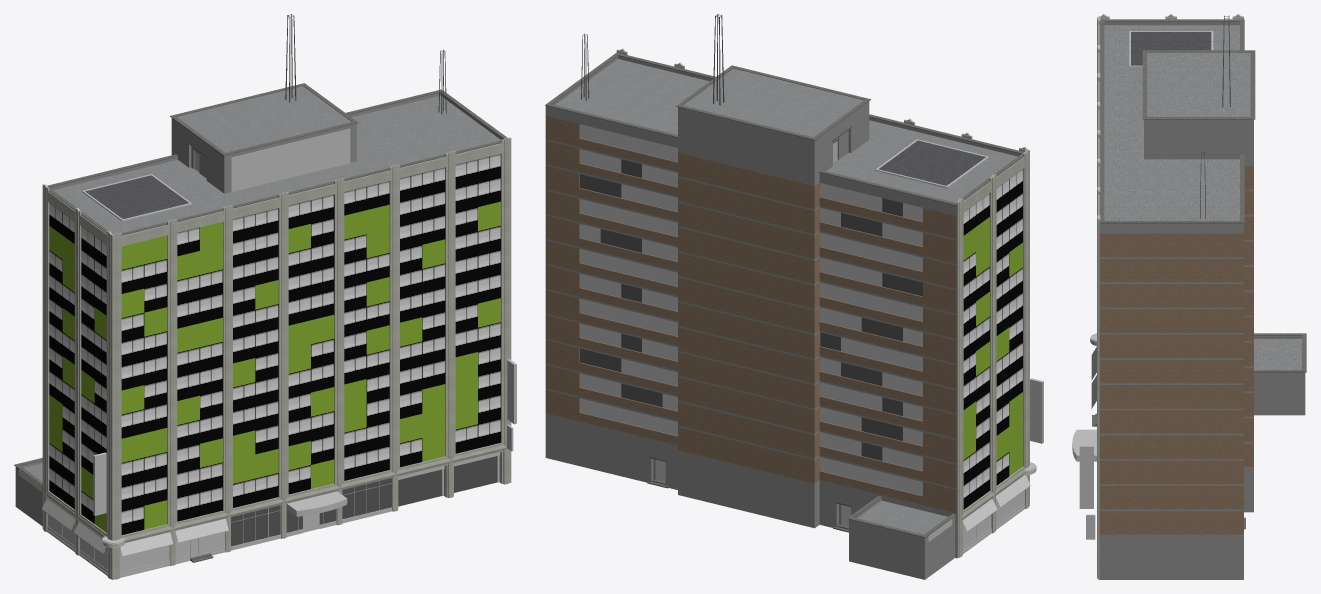
File: mcp_building_07_LOD_1.FBX
3 renders of one model, left to right at view 1: azimuth 30°, elevation 25°; view 2: azimuth 150°, elevation 25°; view 3: azimuth 270°, elevation 25°, orthographic. The views are drawn at different scales.
Parts seen in each view (by area): view 1: mcp_building_07_windows, mcp_building_07_03, mcp_building_07_roof, mcp_building_07_01, mcp_building_07_02, mcp_building_07_concrete, mcp_building_07_glass, mcp_building_07_props_03, mcp_building_07_helipad_concrete; view 2: mcp_building_07_02, mcp_building_07_01, mcp_building_07_roof, mcp_building_07_windows, mcp_building_07_03, mcp_building_07_concrete, mcp_building_07_helipad_concrete, mcp_building_07_props_03; view 3: mcp_building_07_02, mcp_building_07_roof, mcp_building_07_concrete, mcp_building_07_01, mcp_building_07_03, mcp_building_07_helipad_concrete, mcp_building_07_props_03.
Boxes of the visible parts, <box> form: mcp_building_07_windows: <box>49,154,500,534</box>; mcp_building_07_03: <box>42,137,511,579</box>; mcp_building_07_roof: <box>24,86,500,481</box>; mcp_building_07_01: <box>18,128,516,577</box>; mcp_building_07_02: <box>15,93,503,525</box>; mcp_building_07_concrete: <box>14,83,507,562</box>; mcp_building_07_glass: <box>231,478,391,546</box>; mcp_building_07_props_03: <box>285,14,497,506</box>; mcp_building_07_helipad_concrete: <box>85,175,188,219</box>; mcp_building_07_02: <box>545,56,1020,579</box>; mcp_building_07_01: <box>580,124,1043,554</box>; mcp_building_07_roof: <box>555,59,1017,534</box>; mcp_building_07_windows: <box>963,169,1022,509</box>; mcp_building_07_03: <box>616,48,1029,558</box>; mcp_building_07_concrete: <box>545,52,1023,537</box>; mcp_building_07_helipad_concrete: <box>879,140,985,185</box>; mcp_building_07_props_03: <box>581,14,724,105</box>; mcp_building_07_02: <box>1099,22,1305,579</box>; mcp_building_07_roof: <box>1104,25,1301,369</box>; mcp_building_07_concrete: <box>1092,19,1306,529</box>; mcp_building_07_01: <box>1072,119,1143,539</box>; mcp_building_07_03: <box>1097,14,1243,579</box>; mcp_building_07_helipad_concrete: <box>1131,32,1211,65</box>; mcp_building_07_props_03: <box>1200,15,1230,218</box>.
Bounding box in the file's own units: 6478 × 6878 × 3029.
